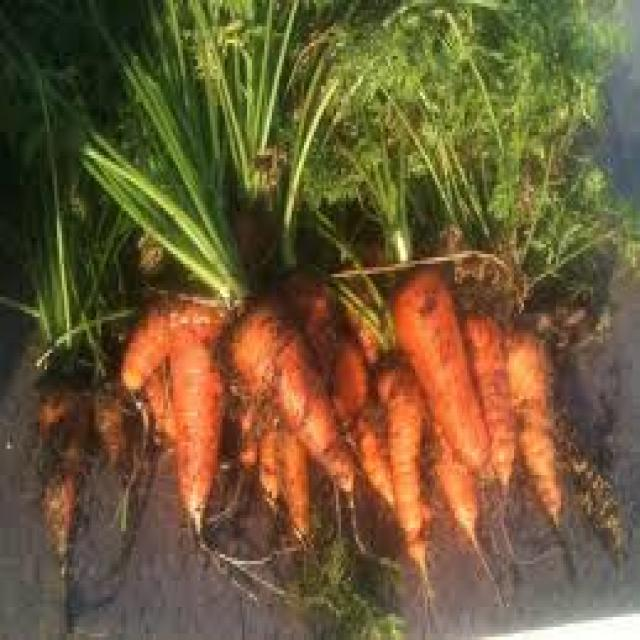organic waste: (370, 0, 630, 313), (0, 0, 250, 307), (0, 0, 133, 379), (272, 0, 437, 267), (274, 0, 425, 264), (116, 277, 230, 531), (222, 287, 354, 501), (173, 0, 306, 201), (284, 257, 393, 498), (388, 257, 487, 468), (516, 175, 638, 297), (225, 370, 306, 541), (282, 521, 400, 637), (370, 347, 428, 580), (504, 316, 561, 524), (306, 205, 386, 333), (459, 300, 512, 492), (32, 382, 84, 570), (425, 412, 479, 541), (341, 234, 385, 370), (89, 372, 131, 458)
